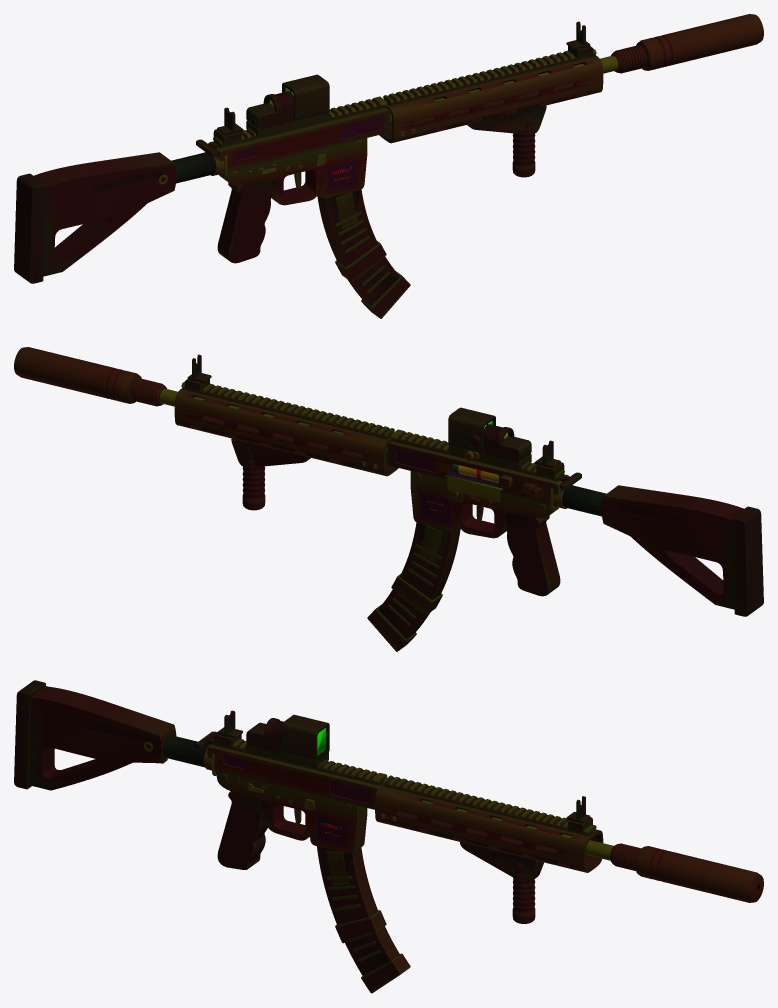
The model's file is kestrel7.glb.
3 renders of one model, top to bottom at view 1: azimuth 30°, elevation 25°; view 2: azimuth 150°, elevation 25°; view 3: azimuth 330°, elevation 25°, orthographic.
Parts seen in each view (by area): view 1: base, att_muzzle_suppressor, att_mag_40, att_mag_30, att_optic_holo, att_under_agrip, att_under_vgrip; view 2: base, att_muzzle_suppressor, att_mag_40, att_optic_holo, att_mag_30, att_under_agrip, att_under_vgrip, att_optic_reddot; view 3: base, att_muzzle_suppressor, att_mag_40, att_mag_30, att_optic_holo, att_under_agrip, att_under_vgrip.
Boxes of the visible parts, <box> form: base: <box>14,46,618,283</box>; att_muzzle_suppressor: <box>611,14,763,73</box>; att_mag_40: <box>317,189,410,318</box>; att_mag_30: <box>317,190,386,282</box>; att_optic_holo: <box>246,74,329,137</box>; att_under_agrip: <box>467,105,546,133</box>; att_under_vgrip: <box>512,116,535,177</box>; base: <box>159,379,763,616</box>; att_muzzle_suppressor: <box>14,347,166,406</box>; att_mag_40: <box>367,522,460,651</box>; att_optic_holo: <box>448,407,531,470</box>; att_mag_30: <box>391,523,460,615</box>; att_under_agrip: <box>231,438,310,466</box>; att_under_vgrip: <box>242,449,265,510</box>; att_optic_reddot: <box>469,424,514,459</box>; base: <box>14,680,613,872</box>; att_muzzle_suppressor: <box>610,843,763,902</box>; att_mag_40: <box>317,846,410,993</box>; att_mag_30: <box>317,847,386,943</box>; att_optic_holo: <box>246,714,329,768</box>; att_under_agrip: <box>460,842,543,883</box>; att_under_vgrip: <box>512,862,535,923</box>.
Size of the model in its own units: 1.06 by 0.3433 by 0.0511.
